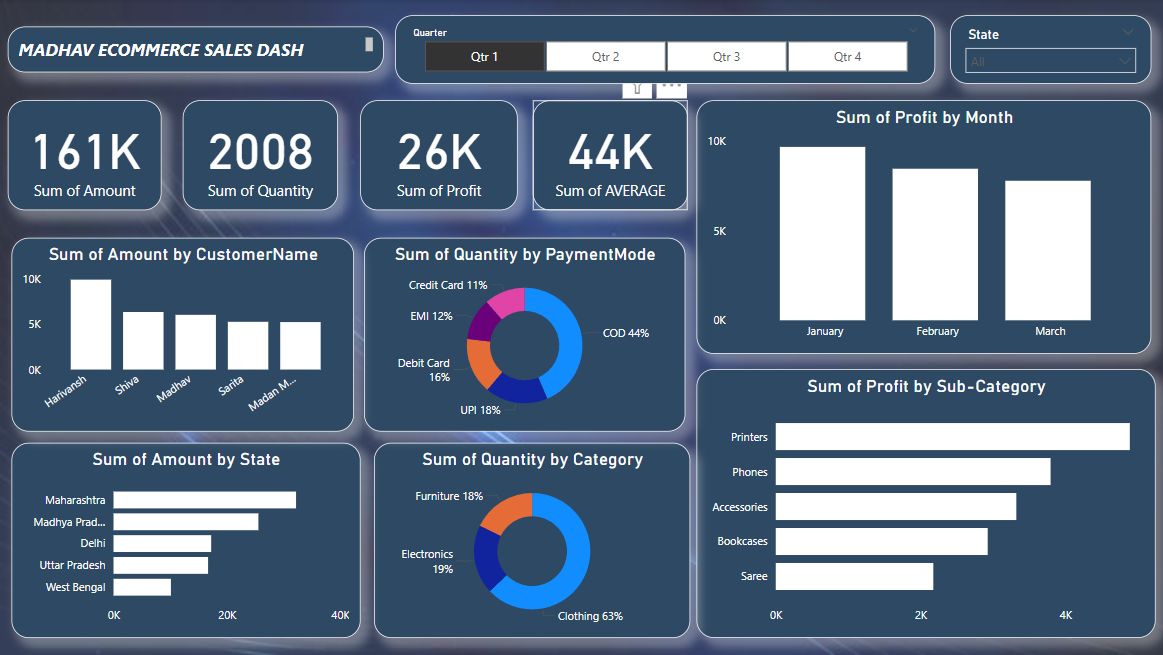

This screenshot's page, from the dashboard's own definition file:
{"tool":"powerbi","page":{"name":"Page 1","canvas":[1280,720],"ordinal":0},"visuals":[{"type":"textbox","box":[9.6,30.2,413,50.8],"z":0},{"type":"columnChart","fields":{"Category":["Orders.Order Date.Variation.Date Hierarchy.Month"],"Y":["Details.Profit"]},"box":[765.7,111.1,499.5,278.6],"z":1000},{"type":"barChart","fields":{"Category":["Details.Sub-Category"],"Y":["Details.Profit"]},"box":[765.7,406.2,503.6,295],"z":2000},{"type":"donutChart","fields":{"Category":["Details.Category"],"Y":["Details.Quantity"]},"box":[411.7,487.1,347.2,214.1],"z":3000},{"type":"donutChart","fields":{"Y":["Details.Quantity"],"Category":["Details.PaymentMode"]},"box":[400.7,262.1,352.7,212.7],"z":4000},{"type":"card","fields":{"Values":["Details.Amount"]},"box":[9.6,111.1,168.8,120.8],"z":5000},{"type":"card","fields":{"Values":["Details.Quantity"]},"box":[201.7,111.1,170.2,120.8],"z":6000},{"type":"card","fields":{"Values":["Details.AVERAGE"]},"box":[585.9,111.1,170.2,120.8],"z":7000},{"type":"card","fields":{"Values":["Details.Profit"]},"box":[396.6,111.1,172.9,120.8],"z":8000},{"type":"barChart","fields":{"Category":["Orders.State"],"Y":["Details.Amount"]},"box":[13.7,487.1,382.8,214.1],"z":9000},{"type":"columnChart","fields":{"Category":["Orders.CustomerName"],"Y":["Details.Amount"]},"box":[13.7,262.1,376,212.7],"z":10000},{"type":"slicer","fields":{"Values":["Orders.Order Date.Variation.Date Hierarchy.Quarter"]},"box":[435,17.8,592.8,75.5],"z":11000},{"type":"slicer","fields":{"Values":["Orders.State"]},"box":[1044.3,17.8,220.9,75.5],"z":12000}]}

Visuals, with their boxes in screenshot pixels (x1, y1, x2, y2), scaled from the page's 1280x720 canvas onto the 1163x655 screenshot:
textbox: 9,27,384,74
columnChart - Orders.Order Date.Variation.Date Hierarchy.Month x Details.Profit: 696,101,1150,355
barChart - Details.Sub-Category x Details.Profit: 696,370,1153,638
donutChart - Details.Category x Details.Quantity: 374,443,690,638
donutChart - Details.Quantity x Details.PaymentMode: 364,238,685,432
card - Details.Amount: 9,101,162,211
card - Details.Quantity: 183,101,338,211
card - Details.AVERAGE: 532,101,687,211
card - Details.Profit: 360,101,517,211
barChart - Orders.State x Details.Amount: 12,443,360,638
columnChart - Orders.CustomerName x Details.Amount: 12,238,354,432
slicer - Orders.Order Date.Variation.Date Hierarchy.Quarter: 395,16,934,85
slicer - Orders.State: 949,16,1150,85
